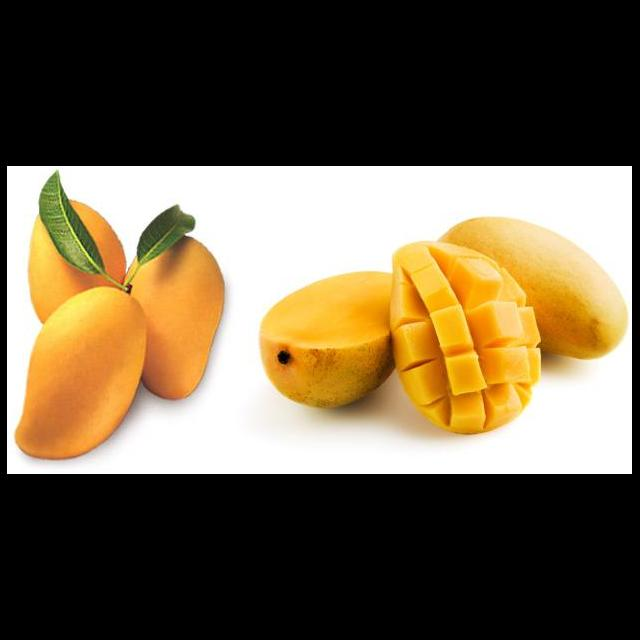mango: (441, 217, 628, 359), (16, 288, 147, 458), (261, 272, 394, 407), (132, 237, 225, 399), (29, 216, 115, 322), (71, 200, 126, 281)
